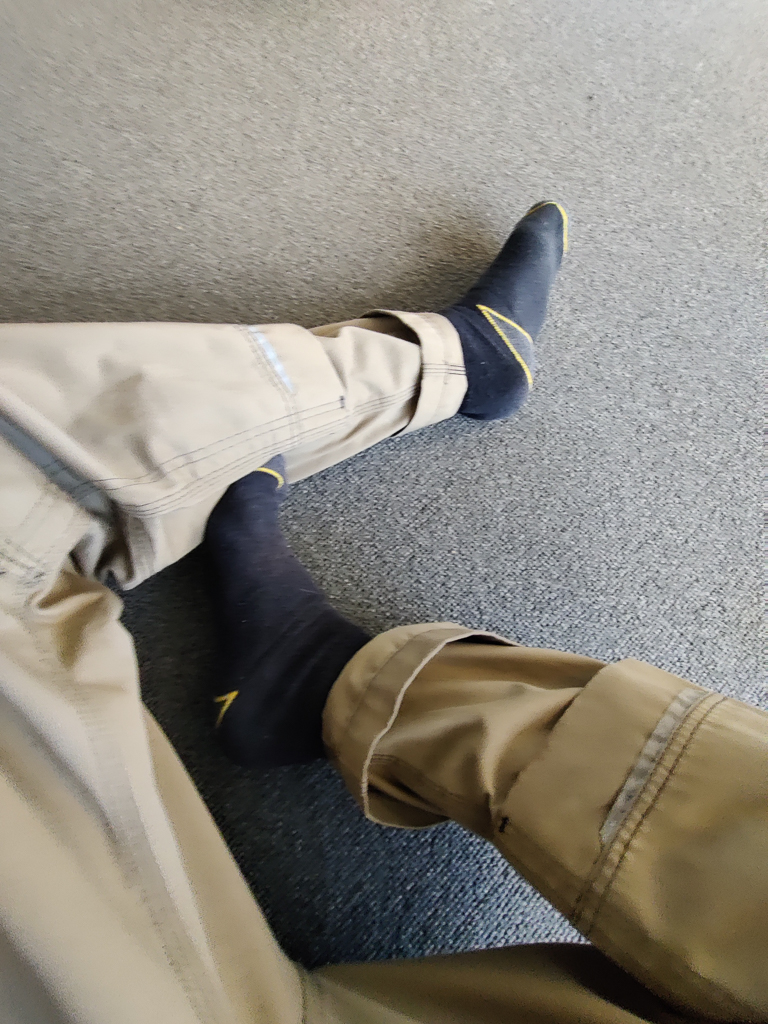Humanoid: (0, 184, 768, 1024)
